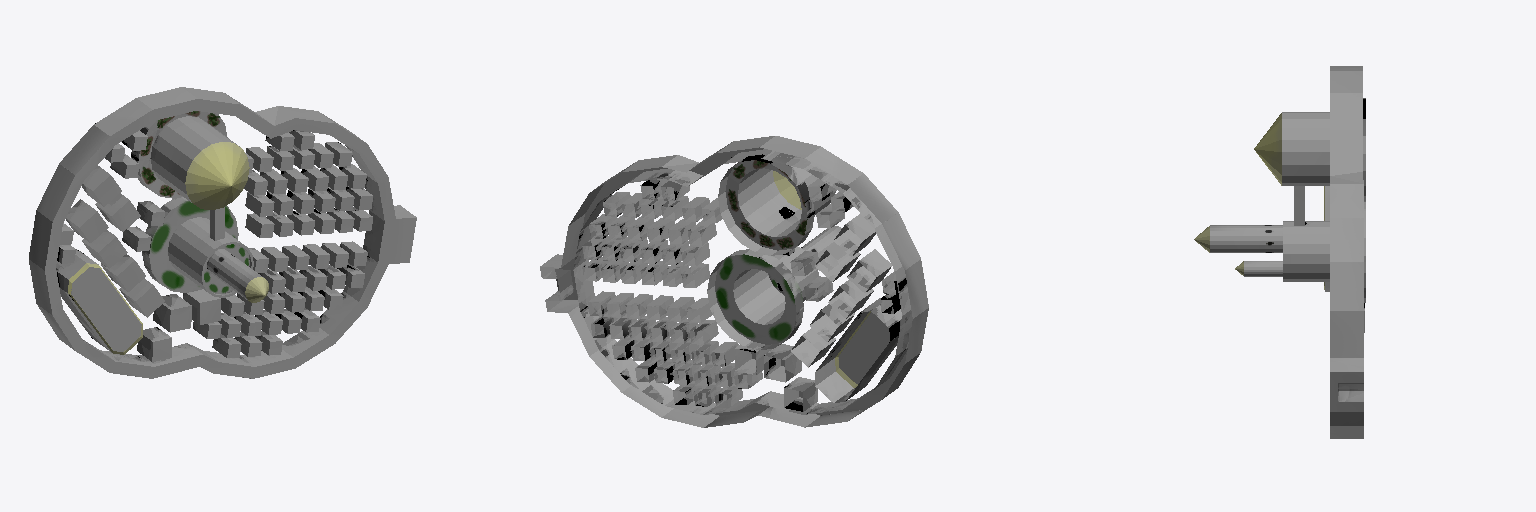
3 views of the same model, side by side, from view 1: azimuth 30°, elevation 25°; view 2: azimuth 150°, elevation 25°; view 3: azimuth 270°, elevation 25° (orthographic).
Parts seen in each view (by area): view 1: Cube_Cube.002; view 2: Cube_Cube.002; view 3: Cube_Cube.002.
Part boxes in pixels (left/top/right/bottom): Cube_Cube.002: left=29, top=87, right=416, bottom=378; Cube_Cube.002: left=540, top=136, right=928, bottom=427; Cube_Cube.002: left=1194, top=66, right=1365, bottom=438.
Bounding box in the file's own units: 9.18 × 6.92 × 3.69.
1 materials, 1 textured.